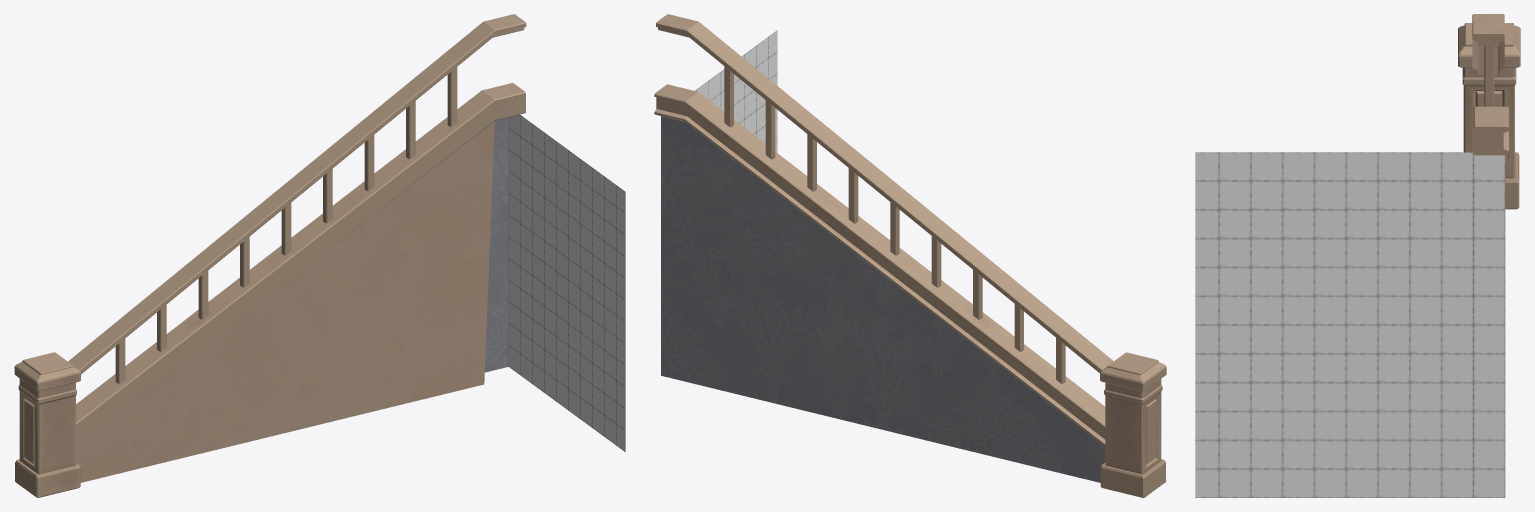
3 views of the same model, side by side, from view 1: azimuth 30°, elevation 25°; view 2: azimuth 150°, elevation 25°; view 3: azimuth 270°, elevation 25° (orthographic). The views are drawn at different scales.
Visible parts, largest first — view 1: Cube (3), BannisterBase (9), bannisterTop, ColumnStump (18), column2Top (1); view 2: Cube (3), BannisterBase (9), bannisterTop, ColumnStump (18), column2Top (1), BannisterStick (37), BannisterStick (38), BannisterStick (35); view 3: Cube (3), ColumnStump (18), BannisterBase (9), bannisterTop, BannisterStick (38), column2Top (1).
Boxes of the visible parts, x1=… form: Cube (3): x1=76, y1=114, x2=625, y2=482; BannisterBase (9): x1=76, y1=83, x2=525, y2=442; bannisterTop: x1=68, y1=14, x2=526, y2=373; ColumnStump (18): x1=14, y1=362, x2=81, y2=497; column2Top (1): x1=22, y1=352, x2=73, y2=374; Cube (3): x1=661, y1=30, x2=1105, y2=482; BannisterBase (9): x1=654, y1=84, x2=1105, y2=446; bannisterTop: x1=656, y1=14, x2=1113, y2=373; ColumnStump (18): x1=1100, y1=362, x2=1166, y2=497; column2Top (1): x1=1107, y1=352, x2=1158, y2=375; BannisterStick (37): x1=765, y1=100, x2=775, y2=159; BannisterStick (38): x1=724, y1=66, x2=733, y2=127; BannisterStick (35): x1=848, y1=168, x2=858, y2=223; Cube (3): x1=1195, y1=152, x2=1505, y2=497; ColumnStump (18): x1=1458, y1=25, x2=1520, y2=209; BannisterBase (9): x1=1473, y1=106, x2=1508, y2=158; bannisterTop: x1=1472, y1=14, x2=1504, y2=74; BannisterStick (38): x1=1484, y1=46, x2=1494, y2=106; column2Top (1): x1=1464, y1=23, x2=1513, y2=46.
Size of the model in its own units: 23.81 by 16.21 by 10.24.
